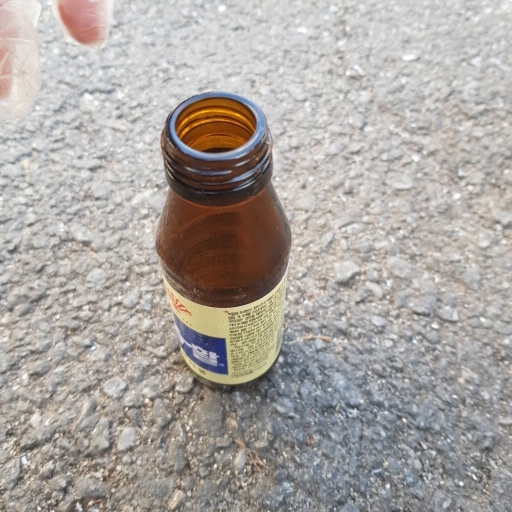Glass_3: (143, 91, 295, 396)
